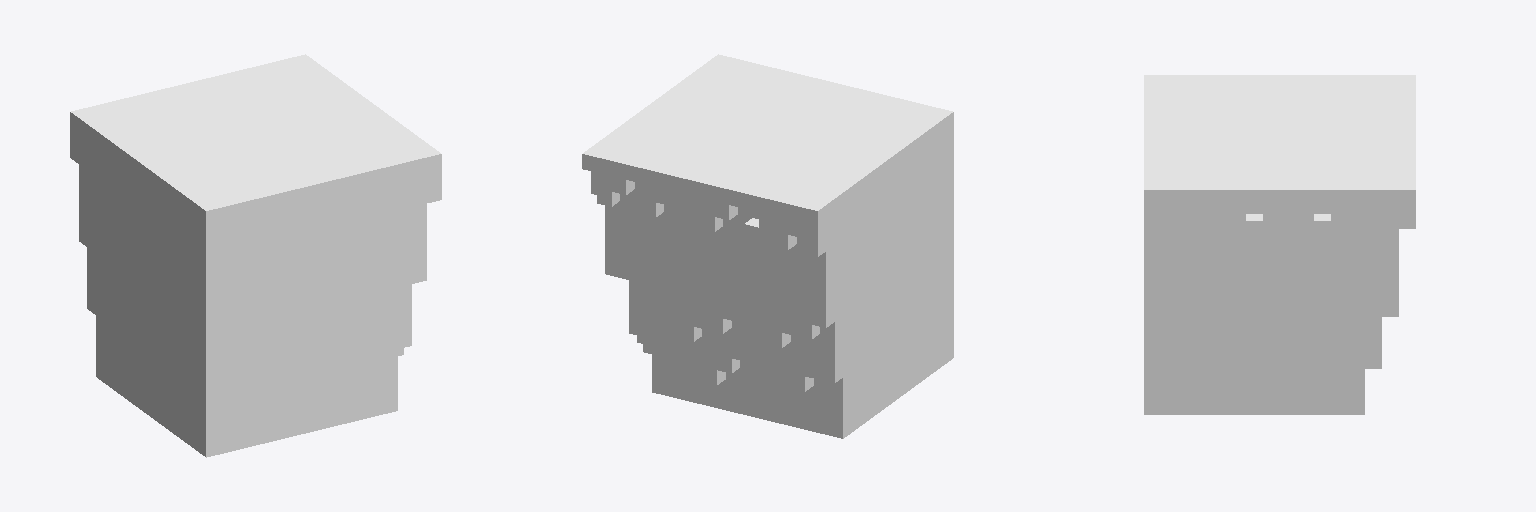
The model's file is WinterGrass-20.obj.
The picture shows the model from 3 angles: view 1: azimuth 30°, elevation 25°; view 2: azimuth 150°, elevation 25°; view 3: azimuth 270°, elevation 25°; orthographic projection.
Visible parts, largest first — view 1: object 1; view 2: object 1; view 3: object 1.
Part boxes in pixels (x1,y1,x2,y2): object 1: (70, 54, 441, 457); object 1: (582, 54, 953, 438); object 1: (1144, 75, 1415, 414).
Size of the model in its own units: 1.6 by 1.6 by 1.6.